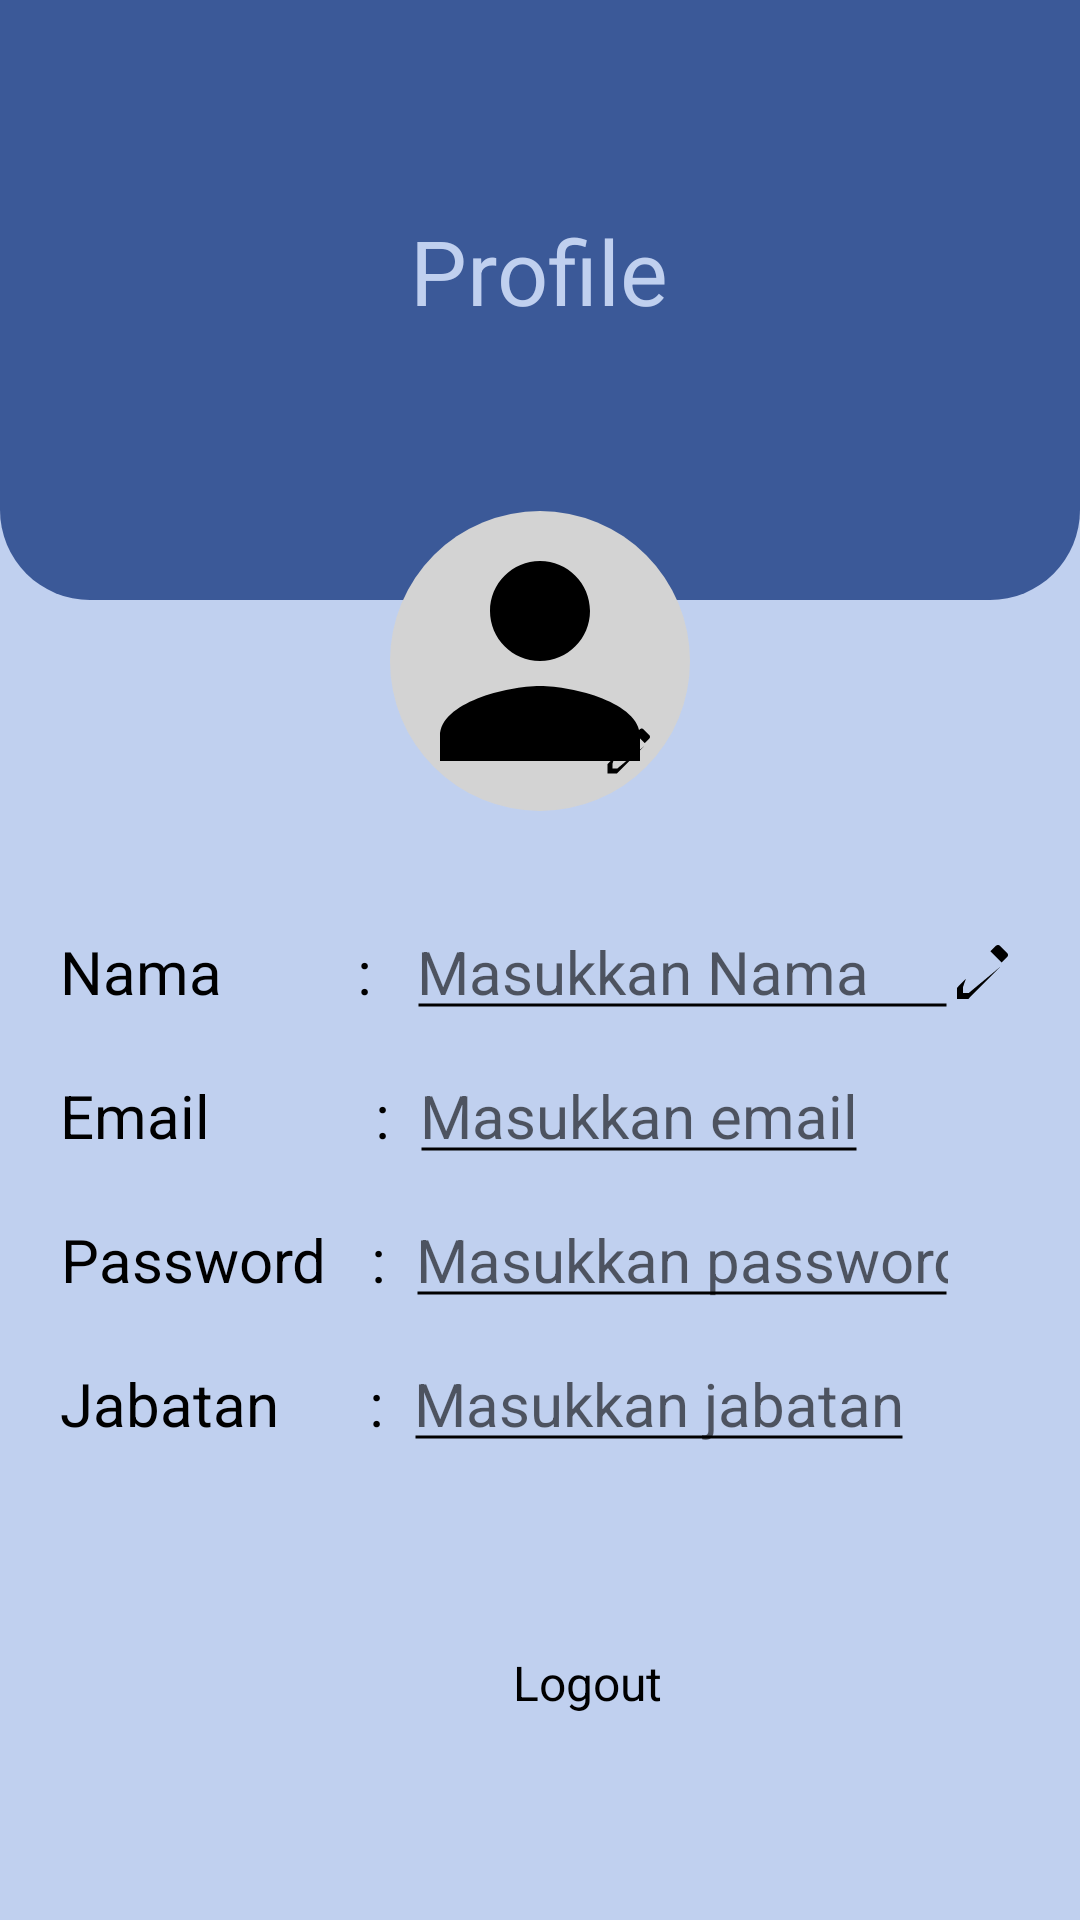

Icon click points for this 1080px x 1920px phone screenshot, format [x,y]:
edit: [982,972]
